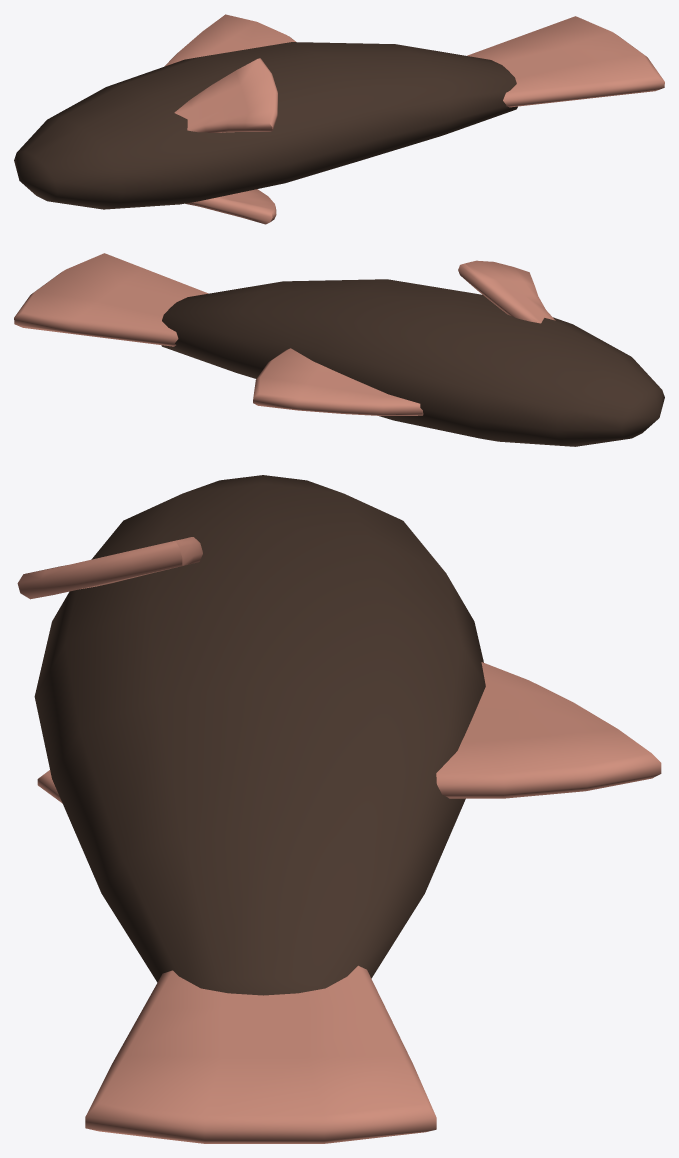
Rendered from fish.obj.
3 views of the same model, one above another, from view 1: azimuth 30°, elevation 25°; view 2: azimuth 150°, elevation 25°; view 3: azimuth 270°, elevation 25° (orthographic). The views are drawn at different scales.
Visible parts, largest first — view 1: FishBody_Sphere, FishTail_Cube.001, FishFin3_Cube.004, FishFin1_Cube.002, FishFin2_Cube.003; view 2: FishBody_Sphere, FishTail_Cube.001, FishFin1_Cube.002, FishFin3_Cube.004; view 3: FishBody_Sphere, FishTail_Cube.001, FishFin1_Cube.002, FishFin3_Cube.004.
Boxes of the visible parts, x1,y1,x2,y2 form: FishBody_Sphere: (14, 42, 517, 209); FishTail_Cube.001: (467, 16, 664, 107); FishFin3_Cube.004: (174, 58, 277, 132); FishFin1_Cube.002: (164, 14, 295, 66); FishFin2_Cube.003: (185, 189, 276, 224); FishBody_Sphere: (161, 279, 664, 446); FishTail_Cube.001: (14, 253, 208, 346); FishFin1_Cube.002: (253, 348, 423, 415); FishFin3_Cube.004: (458, 260, 555, 323); FishBody_Sphere: (34, 475, 485, 995); FishTail_Cube.001: (85, 965, 436, 1143); FishFin1_Cube.002: (436, 662, 661, 798); FishFin3_Cube.004: (17, 537, 202, 599).
Size of the model in its own units: 0.4245 by 0.0984 by 0.1929.
